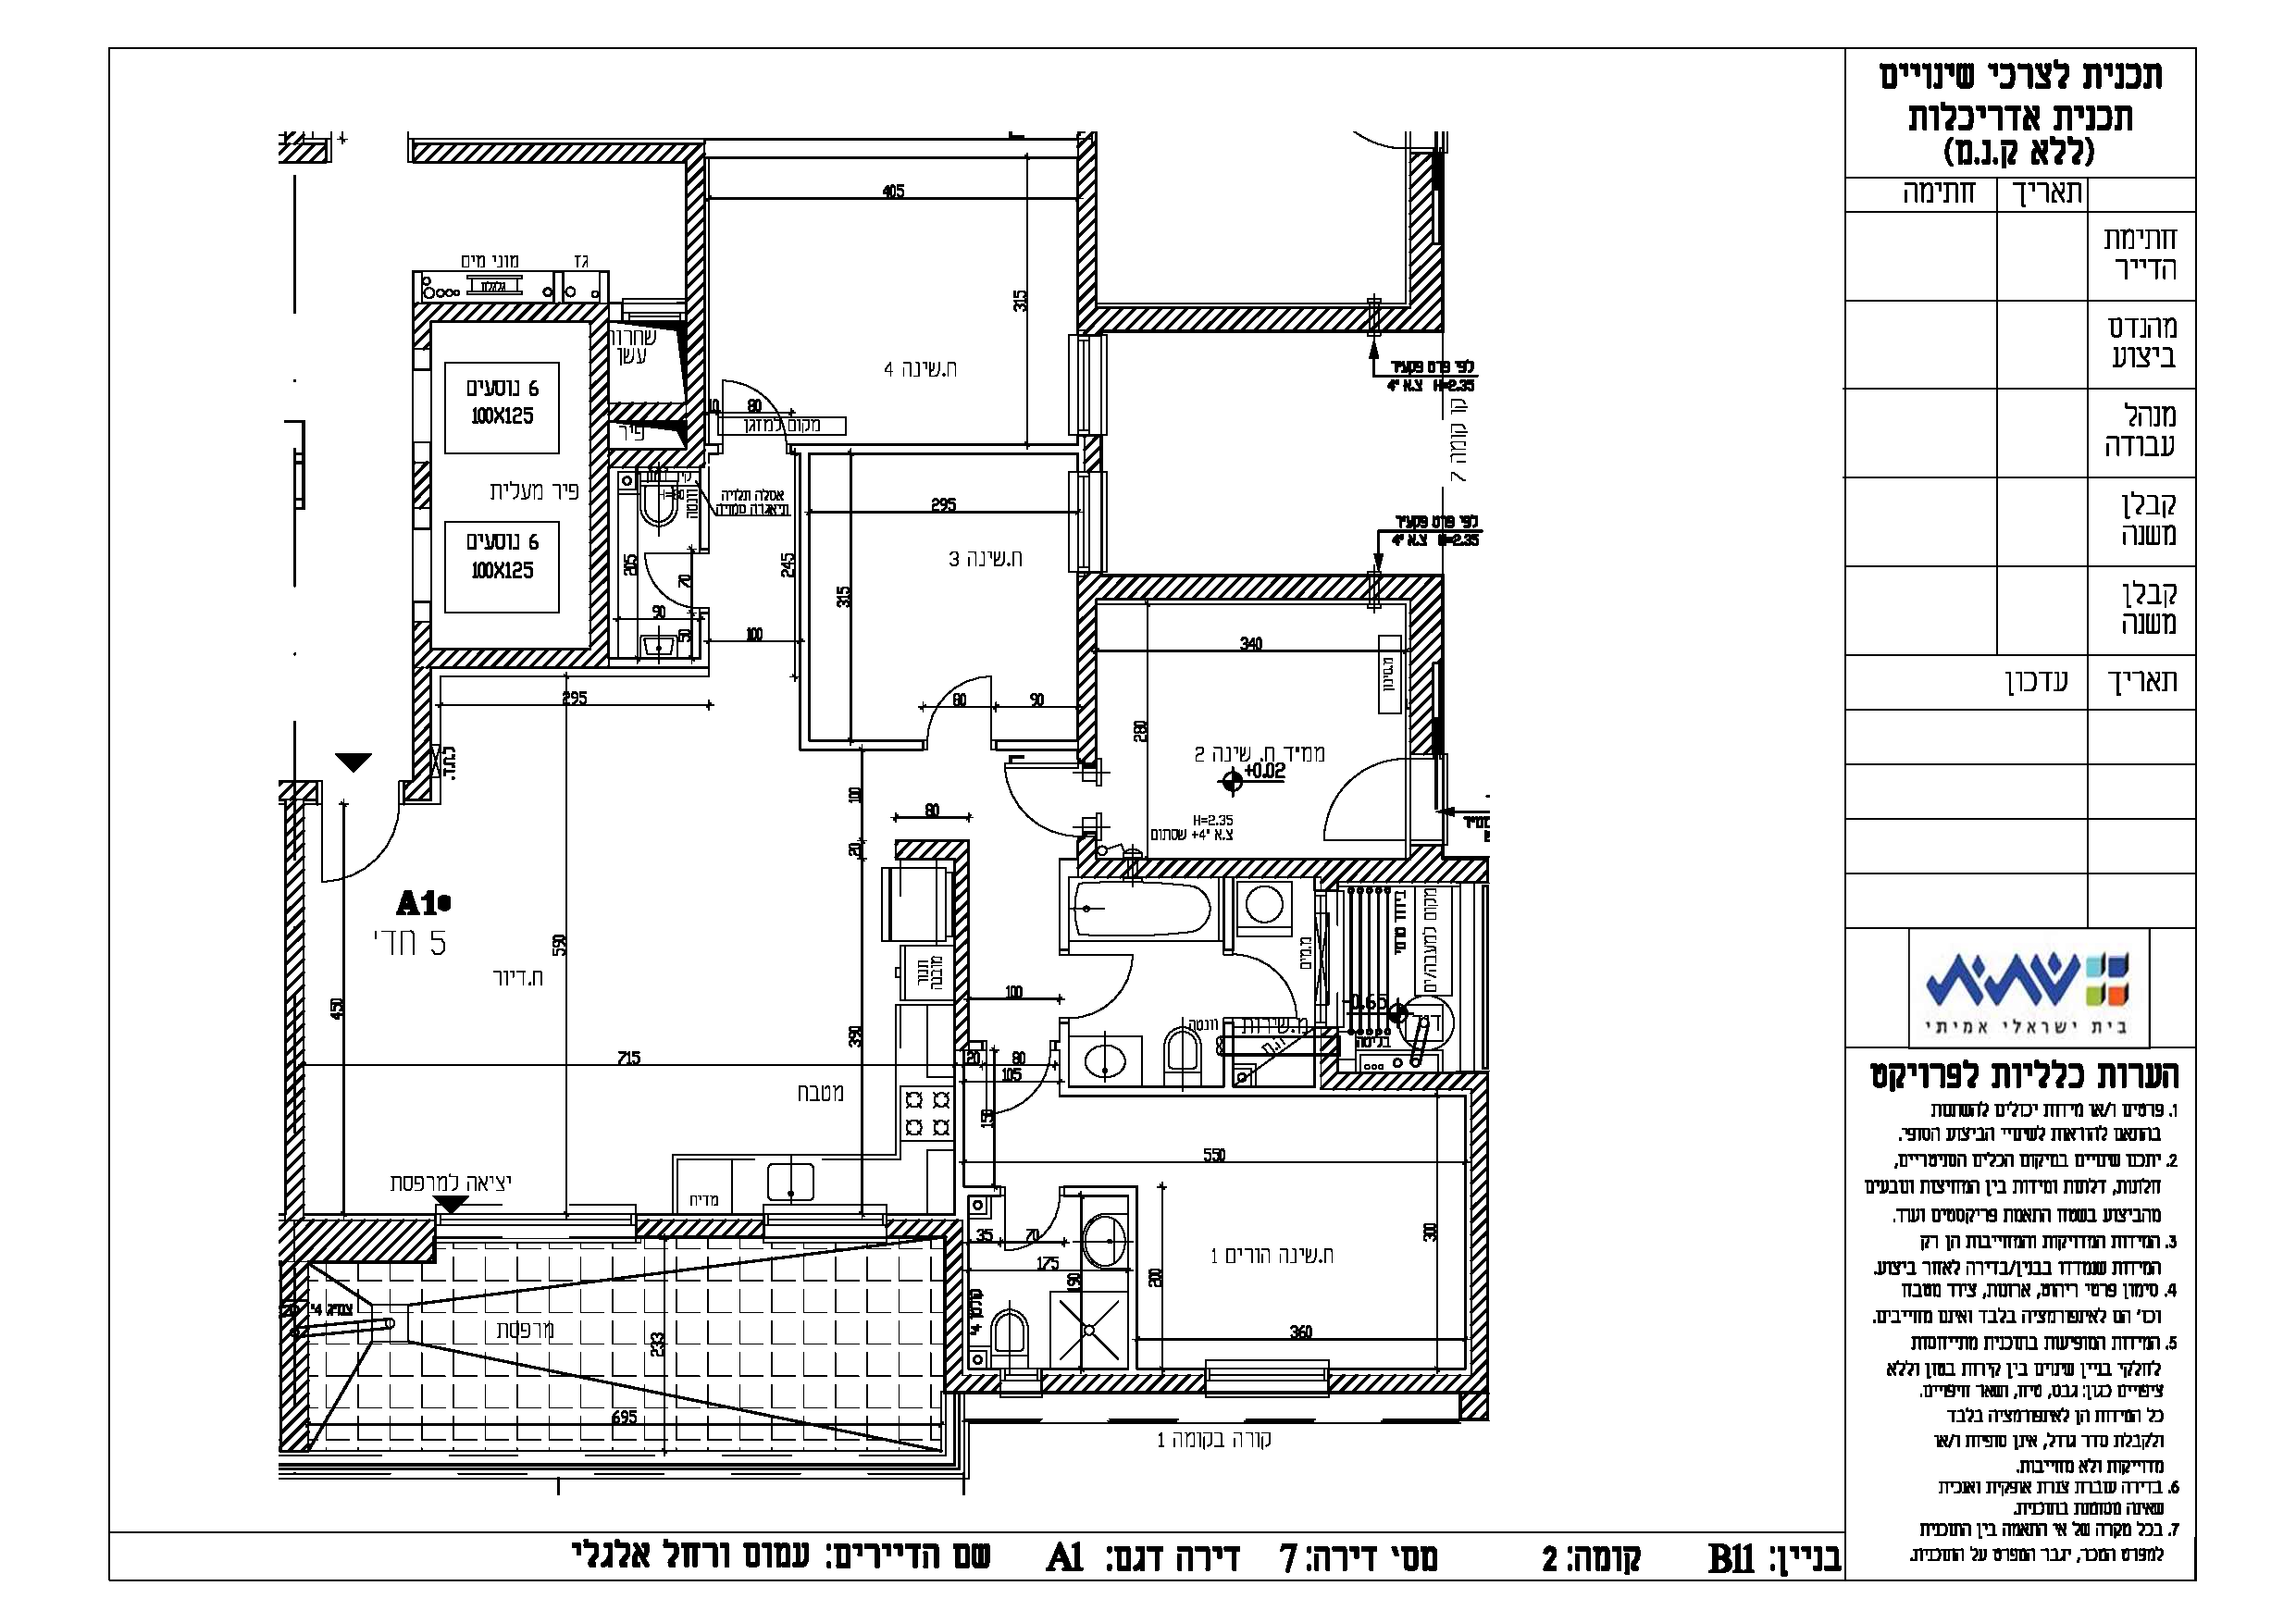door: (993, 754, 1077, 840), (1323, 761, 1407, 845), (1072, 947, 1133, 1021)
wall: (285, 806, 307, 1214), (1108, 574, 1440, 601), (588, 300, 610, 664), (1108, 309, 1437, 330), (411, 141, 711, 162), (307, 1214, 427, 1263), (1472, 1073, 1490, 1363), (1411, 155, 1442, 299), (940, 1221, 966, 1389), (690, 170, 704, 465), (1045, 1368, 1202, 1391), (413, 646, 581, 667), (636, 1212, 761, 1238), (1079, 578, 1096, 762), (1335, 1372, 1483, 1391), (954, 841, 968, 1042), (1082, 135, 1094, 325), (1323, 1070, 1462, 1086), (411, 683, 429, 799), (416, 306, 581, 316), (411, 464, 432, 515)
window: (1212, 1367, 1330, 1391), (1072, 341, 1103, 430), (1075, 483, 1108, 566)
